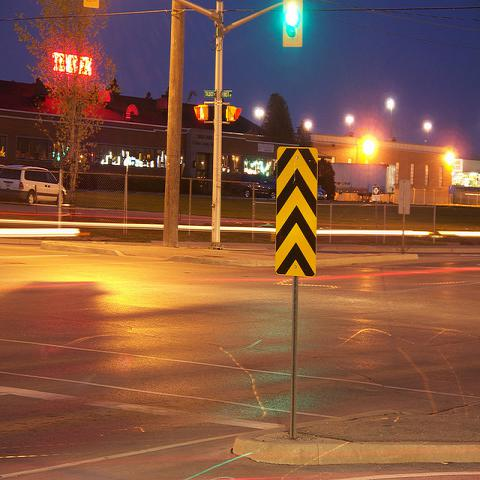car: (1, 164, 67, 205), (240, 182, 276, 199), (318, 188, 327, 199)
